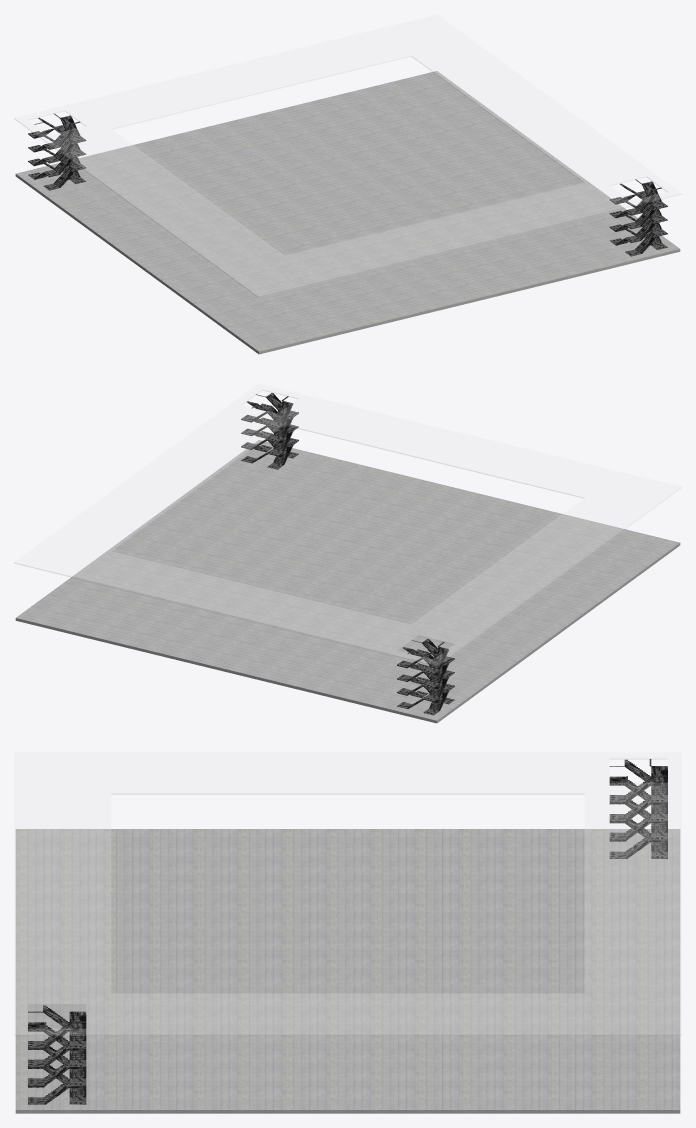
3 renders of one model, top to bottom at view 1: azimuth 30°, elevation 25°; view 2: azimuth 150°, elevation 25°; view 3: azimuth 270°, elevation 25°, orthographic. The views are drawn at different scales.
Visible parts, largest first — view 1: ARCHMUSEUM-SMARTOBJ2-solofloor; view 2: ARCHMUSEUM-SMARTOBJ2-solofloor; view 3: ARCHMUSEUM-SMARTOBJ2-solofloor.
Part boxes in pixels (box(x1,y1,x2,y2)): ARCHMUSEUM-SMARTOBJ2-solofloor: box(14, 15, 681, 354); ARCHMUSEUM-SMARTOBJ2-solofloor: box(14, 384, 681, 723); ARCHMUSEUM-SMARTOBJ2-solofloor: box(14, 752, 681, 1113).
Size of the model in its own units: 80.4 by 10.61 by 80.4.
3 materials, 2 textured.
